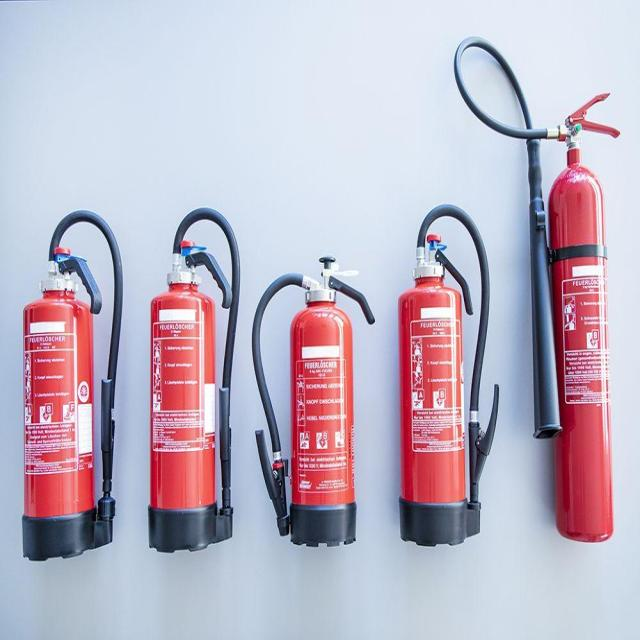fire_extinguisher: (449, 32, 627, 547), (246, 251, 378, 551), (18, 204, 126, 564), (393, 199, 504, 548), (144, 203, 244, 556)
